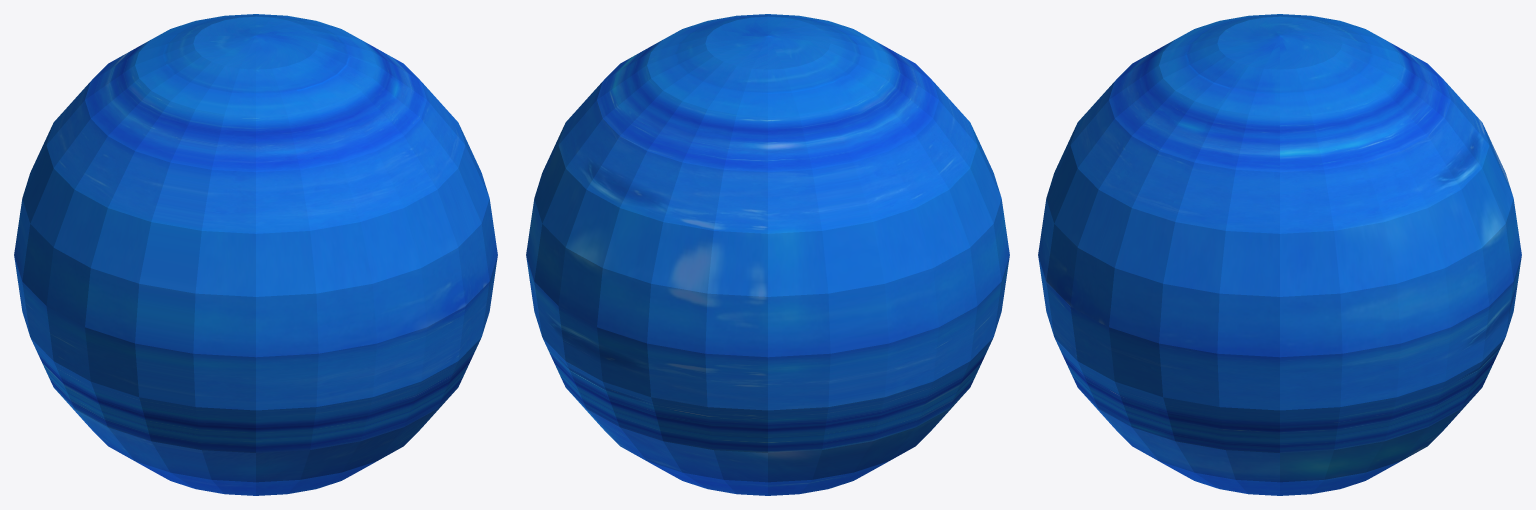
File: Neptuno.obj
3 renders of one model, left to right at view 1: azimuth 30°, elevation 25°; view 2: azimuth 150°, elevation 25°; view 3: azimuth 270°, elevation 25°, orthographic.
Parts seen in each view (by area): view 1: polySurface20 polySurface19 polySurface15 polySurface13 polySurf; view 2: polySurface20 polySurface19 polySurface15 polySurface13 polySurf; view 3: polySurface20 polySurface19 polySurface15 polySurface13 polySurf.
Part boxes in pixels (x1=…): polySurface20 polySurface19 polySurface15 polySurface13 polySurf: x1=14, y1=14, x2=497, y2=495; polySurface20 polySurface19 polySurface15 polySurface13 polySurf: x1=526, y1=14, x2=1009, y2=495; polySurface20 polySurface19 polySurface15 polySurface13 polySurf: x1=1038, y1=14, x2=1521, y2=495.
Size of the model in its own units: 1.22 by 1.22 by 1.22.
1 material, 1 textured.
